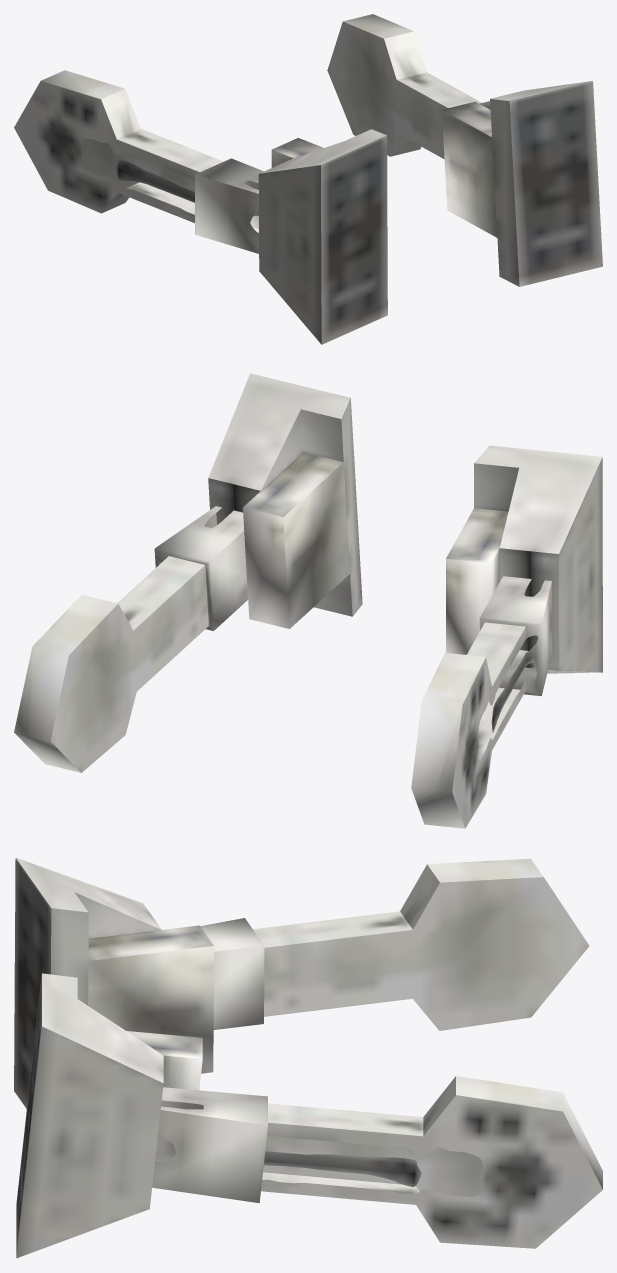
The model's file is poi_r4_leg_l2.fbx.
The picture shows the model from 3 angles, top to bottom: view 1: azimuth 30°, elevation 25°; view 2: azimuth 150°, elevation 25°; view 3: azimuth 270°, elevation 25°; orthographic projection. The views are drawn at different scales.
Parts seen in each view (by area): view 1: mesh_node; view 2: mesh_node; view 3: mesh_node.
Boxes of the visible parts, left/top/right/bottom form: mesh_node: left=14, top=14, right=602, bottom=344; mesh_node: left=14, top=373, right=602, bottom=828; mesh_node: left=14, top=857, right=602, bottom=1258.
Bounding box in the file's own units: 0.7738 × 0.3713 × 0.813.
1 material, 1 textured.
